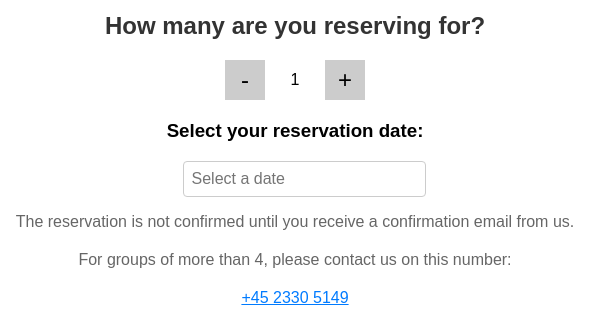
Booking Component › increments and decrements number of people
The image size is (590, 322).
Click the button "+" at (345, 80), box [325,60,365,100]
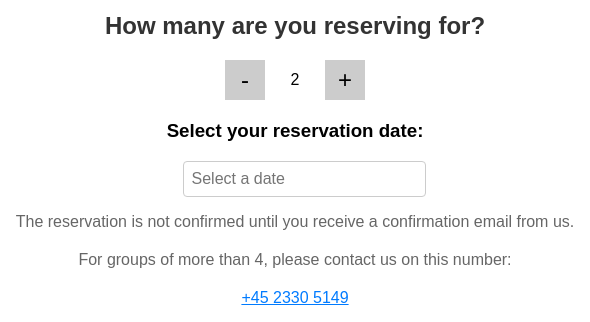
Check: the text "1" reads "2", box [290,71,299,88]
Click the button "-" at (245, 80), box [225,60,265,100]
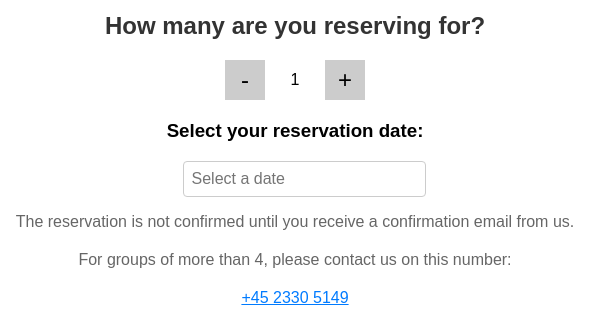
Check: the text "1" is shown, box [290,71,299,88]
